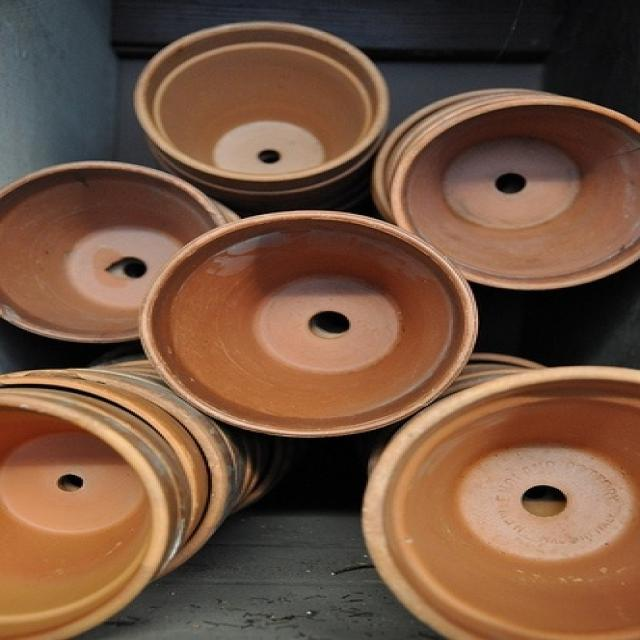Plastics: (4, 11, 638, 640)
